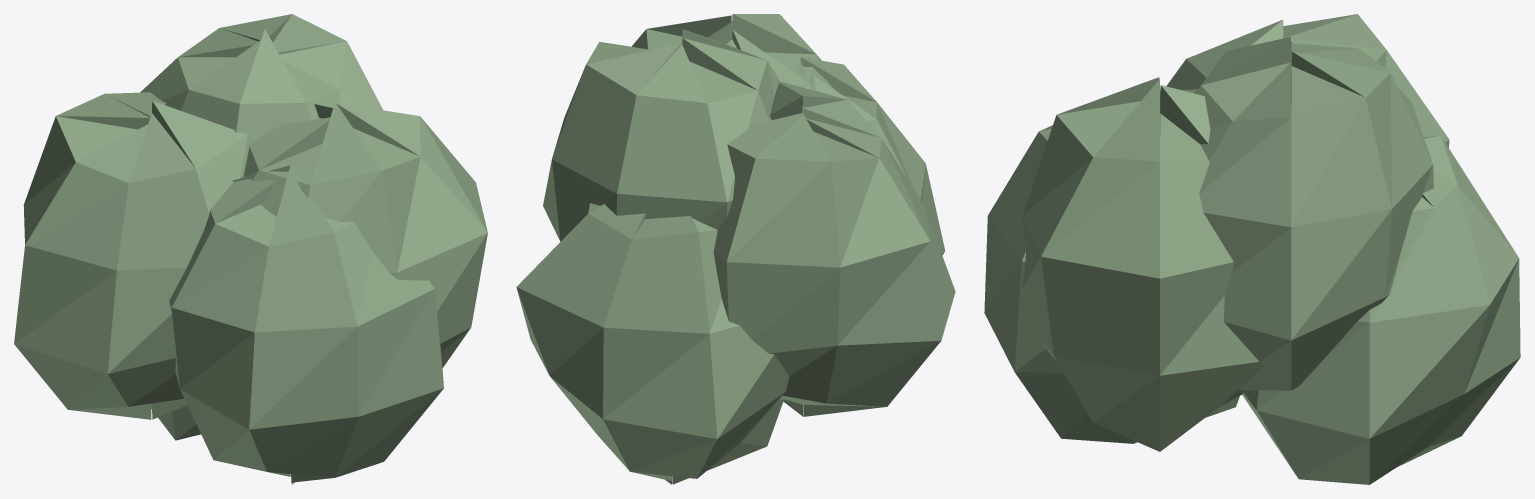
Rendered from bush_variant_01.glb.
The picture shows the model from 3 angles, left to right: view 1: azimuth 30°, elevation 25°; view 2: azimuth 150°, elevation 25°; view 3: azimuth 270°, elevation 25°; orthographic projection. The views are drawn at different scales.
Parts seen in each view (by area): view 1: static_leaf_sage; view 2: static_leaf_sage; view 3: static_leaf_sage.
Part boxes in pixels (x1,y1,x2,y2): static_leaf_sage: [14, 14, 487, 484]; static_leaf_sage: [516, 14, 955, 484]; static_leaf_sage: [984, 14, 1520, 484].
Bounding box in the file's own units: 1.3 × 1.29 × 1.36.
